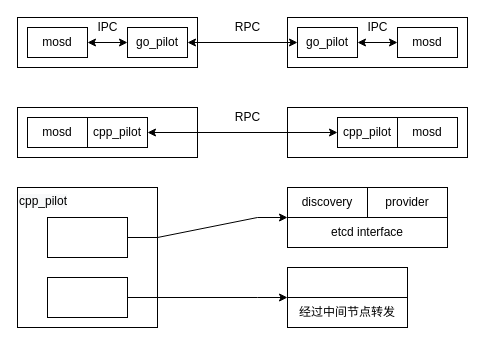
This 485x345 diagram has some shape labels left out. The centre of each missing label's shape, as x and y in pixels:
"RPC转发" belongs at pixel 87 297.
"服务注册/发现" belongs at pixel 87 237.
"点对点转发" belongs at pixel 347 282.
